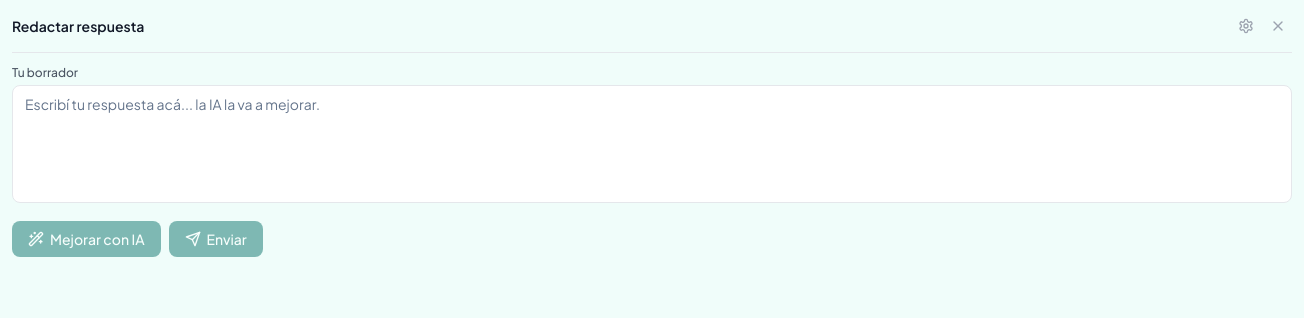
Test: ReplyPanel › sends after the undo delay elapses
Type "Borrador directo" into the text box with placeholder "Escribí tu respuesta acá... la IA la va a mejorar." at (652, 144), box [12,85,1292,203]
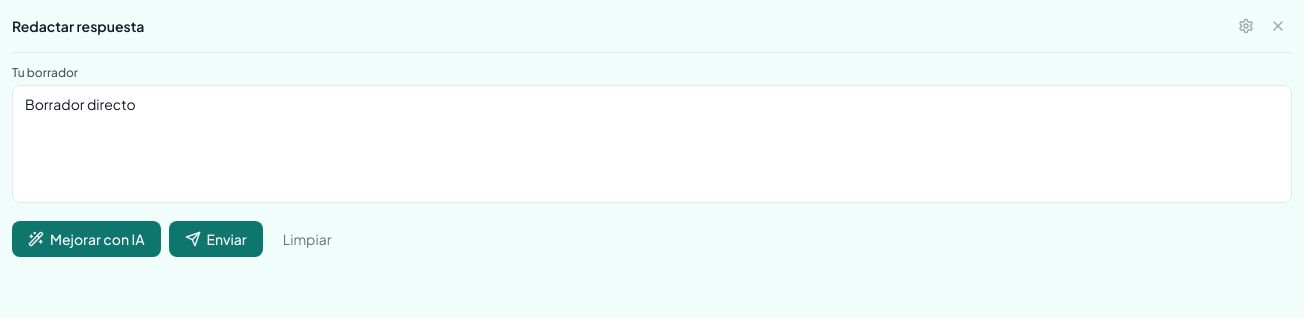
Click the button "Enviar" at (216, 239), box [169,221,263,257]
Wait 5000 ms
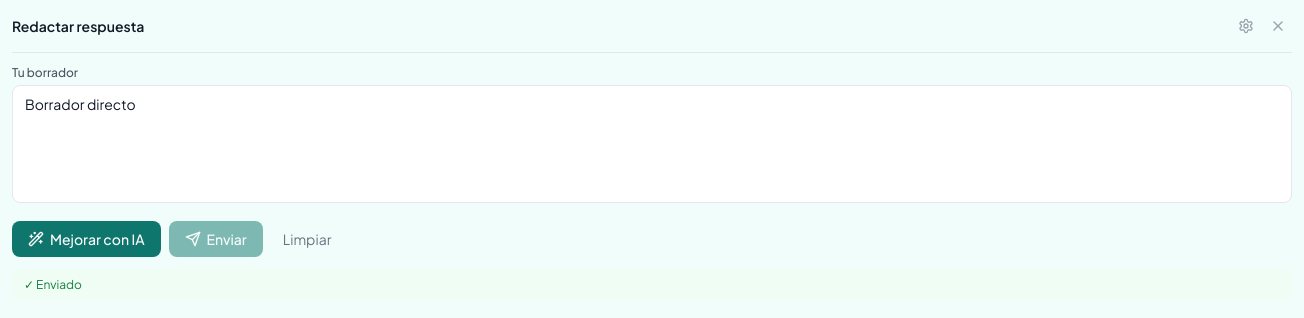
Result: the text "✓ Enviado" is shown at [12,269,1292,301]
